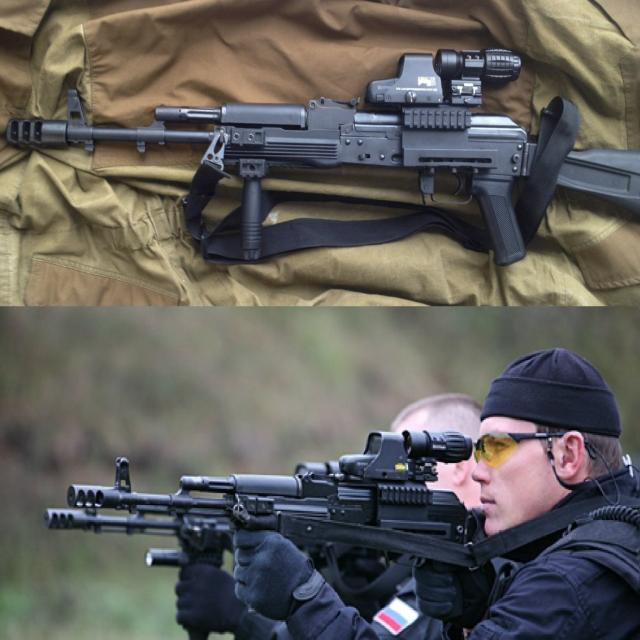firearm: (9, 46, 640, 257), (66, 428, 483, 548)
